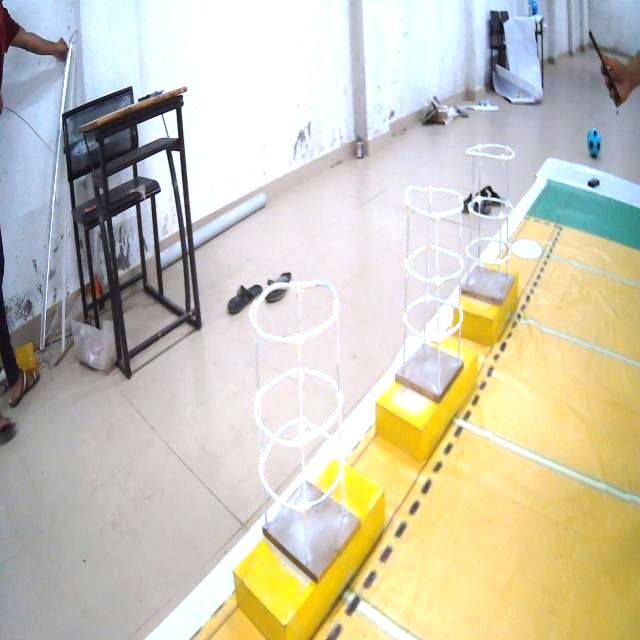silo: (234, 261, 374, 574), (385, 166, 468, 413), (461, 135, 521, 312)
